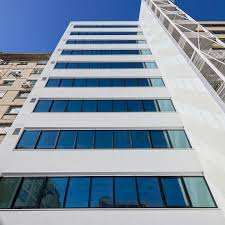glass panel: (184, 177, 216, 207), (13, 177, 44, 207), (40, 177, 67, 207), (137, 177, 163, 206), (161, 177, 187, 206), (65, 177, 89, 207), (114, 177, 137, 207), (90, 177, 112, 207), (0, 178, 20, 207), (16, 130, 39, 148), (36, 130, 58, 148), (168, 130, 190, 147), (56, 130, 76, 148), (76, 130, 94, 148), (131, 130, 150, 147), (150, 130, 169, 147), (95, 130, 112, 148), (114, 130, 131, 147), (157, 99, 174, 111), (34, 100, 52, 111), (97, 100, 113, 112), (50, 100, 67, 111), (127, 100, 143, 111), (66, 100, 82, 111), (143, 100, 157, 111), (82, 100, 96, 111), (113, 100, 126, 111), (73, 79, 87, 87), (125, 78, 138, 86), (151, 78, 164, 86), (46, 79, 60, 86), (99, 78, 111, 86), (138, 78, 150, 86), (59, 79, 72, 86), (113, 78, 124, 86), (86, 79, 97, 86), (145, 62, 156, 68), (54, 63, 66, 68)
